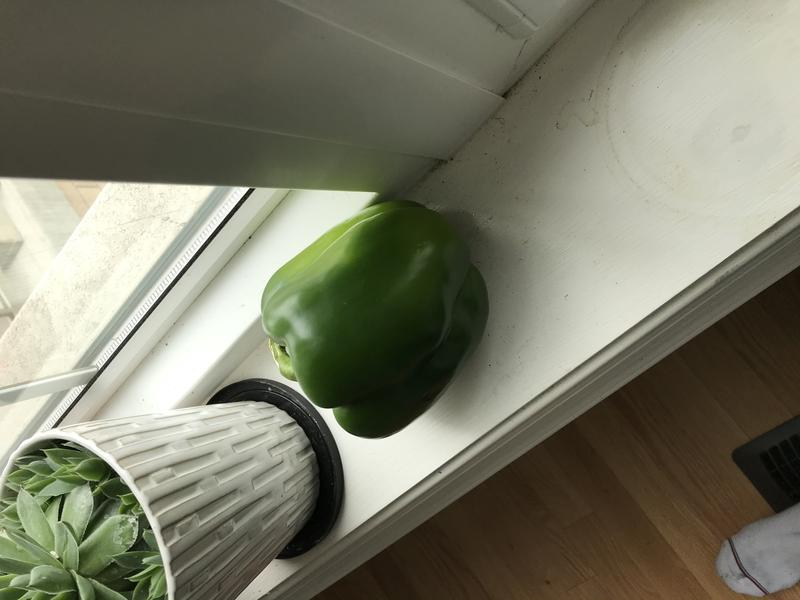green_pepper: (255, 180, 504, 443)
